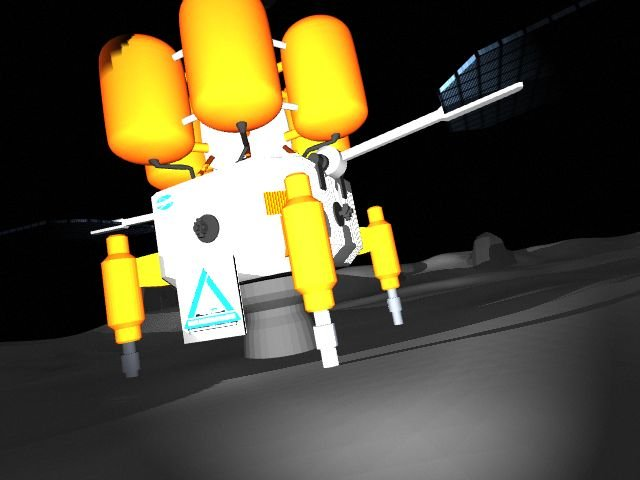basemarker: (184, 268, 241, 333)
